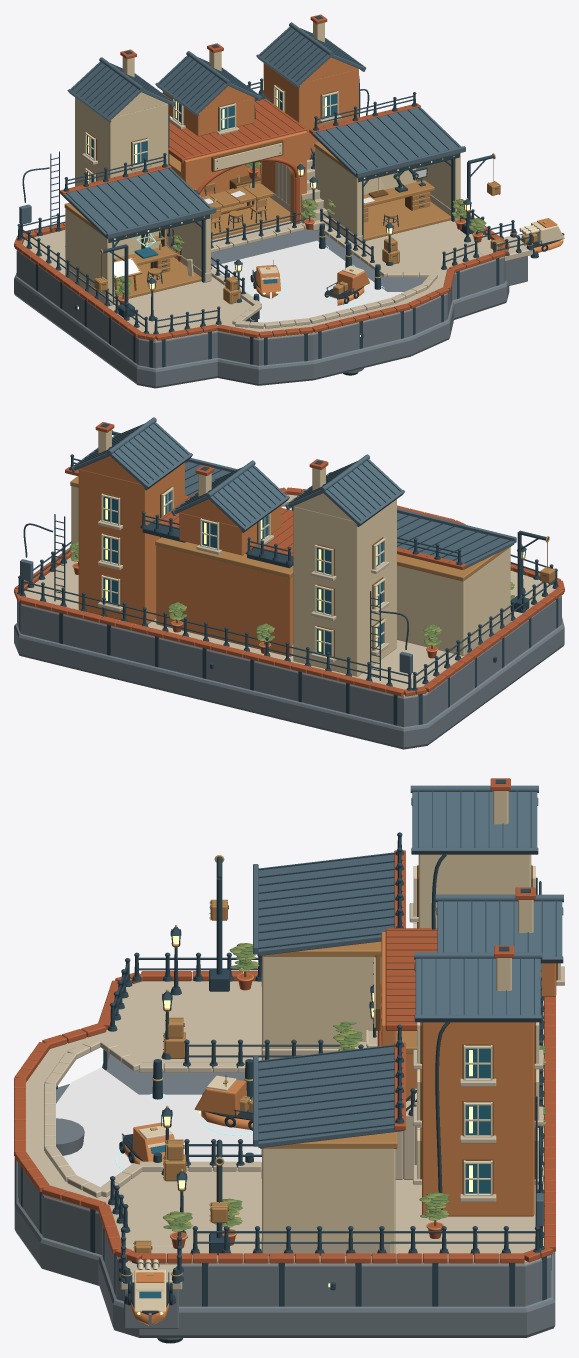
Rendered from chongzhen-refined-v1.glb.
3 renders of one model, top to bottom at view 1: azimuth 30°, elevation 25°; view 2: azimuth 150°, elevation 25°; view 3: azimuth 270°, elevation 25°, orthographic. The views are drawn at different scales.
Visible parts, largest first — view 1: harbor_stone, harbor_slate, harbor_metal, harbor_stone_paving, harbor_plaster_cream, harbor_plaster_orange (×3), harbor_wood, harbor_plaster_clay, harbor_pool, harbor_paper (×2), harbor_wood_dark, harbor_glass (+4 smaller); view 2: harbor_stone, harbor_plaster_orange, harbor_plaster_cream, harbor_slate, harbor_metal, harbor_plaster_clay, harbor_stone_paving, harbor_paper, harbor_wood, harbor_glass, harbor_wood_dark, harbor_leaf (+2 smaller); view 3: harbor_slate, harbor_stone, harbor_stone_paving, harbor_plaster_cream, harbor_metal, harbor_plaster_orange (×3), harbor_plaster_clay, harbor_pool, harbor_wood, harbor_paper (×2), harbor_wood_dark, harbor_leaf (+3 smaller).
Boxes of the visible parts, x1,y1,x2,y2 form: harbor_stone: (14, 229, 527, 388); harbor_slate: (19, 22, 465, 241); harbor_metal: (16, 15, 533, 375); harbor_stone_paving: (22, 115, 532, 342); harbor_plaster_cream: (65, 22, 460, 297); harbor_plaster_orange (×3): (118, 57, 483, 305); harbor_wood: (64, 142, 533, 304); harbor_plaster_clay: (14, 14, 509, 340); harbor_pool: (211, 240, 403, 327); harbor_paper (×2): (85, 85, 564, 276); harbor_wood_dark: (87, 84, 501, 298); harbor_glass: (87, 89, 336, 258); harbor_stone: (14, 505, 564, 749); harbor_plaster_orange: (72, 456, 510, 656); harbor_plaster_cream: (71, 430, 510, 676); harbor_slate: (20, 417, 516, 674); harbor_metal: (17, 423, 558, 725); harbor_plaster_clay: (14, 422, 564, 696); harbor_stone_paving: (21, 494, 555, 697); harbor_paper: (101, 487, 385, 656); harbor_wood: (70, 476, 555, 583); harbor_glass: (103, 491, 383, 655); harbor_wood_dark: (75, 486, 547, 656); harbor_leaf: (70, 542, 514, 644); harbor_slate: (253, 785, 563, 1226); harbor_stone: (14, 1048, 555, 1339); harbor_stone_paving: (26, 903, 564, 1289); harbor_plaster_cream: (262, 791, 533, 1253); harbor_metal: (18, 779, 556, 1343); harbor_plaster_orange (×3): (124, 932, 556, 1240); harbor_plaster_clay: (14, 778, 555, 1263); harbor_pool: (56, 1067, 261, 1196); harbor_wood: (121, 900, 416, 1276); harbor_paper (×2): (134, 866, 560, 1311); harbor_wood_dark: (151, 865, 557, 1249); harbor_leaf: (163, 943, 546, 1229).
Bounding box in the file's own units: 19.43 × 9.87 × 13.2.
